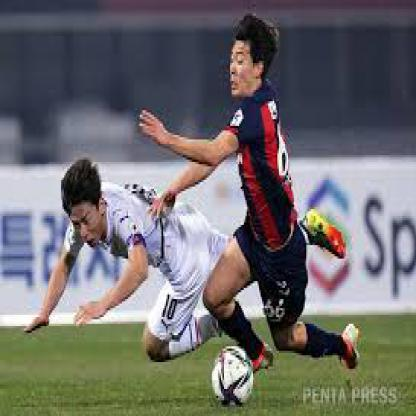Fall_Down: (22, 156, 348, 367)
